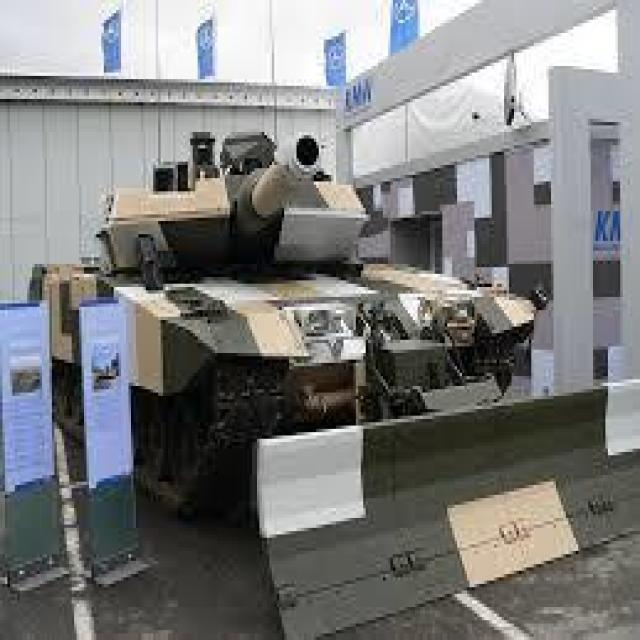MIL_MBT: (25, 127, 536, 572)
